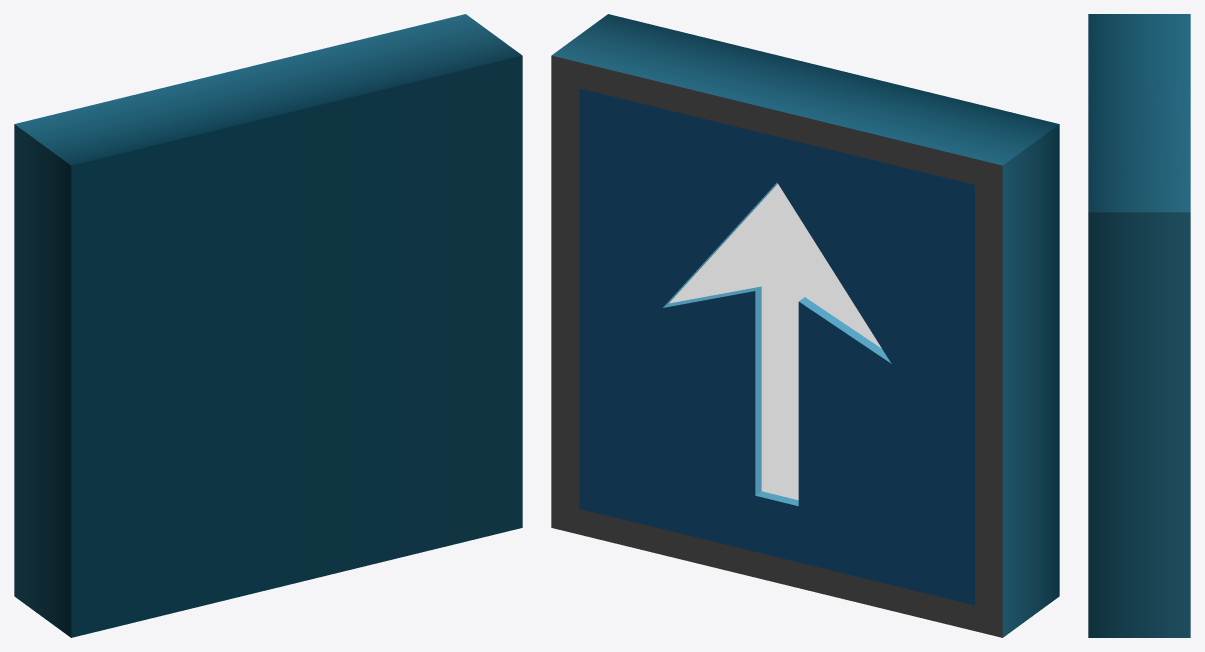
Rendered from arrowButton.glb.
The picture shows the model from 3 angles, left to right: view 1: azimuth 30°, elevation 25°; view 2: azimuth 150°, elevation 25°; view 3: azimuth 270°, elevation 25°; orthographic projection. The views are drawn at different scales.
Parts seen in each view (by area): view 1: Cubo.582; view 2: Cubo.582; view 3: Cubo.582.
Boxes of the visible parts, box(x1,y1,x2,y2) form: Cubo.582: box(14, 14, 522, 637); Cubo.582: box(551, 14, 1059, 637); Cubo.582: box(1088, 14, 1190, 637).
Size of what is drawn, in the model's own units: 0.1313 by 0.1313 by 0.0286.
2 materials, 2 textured.
